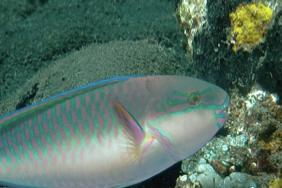Scaridae -Parrotfishes-: (0, 71, 231, 188)
